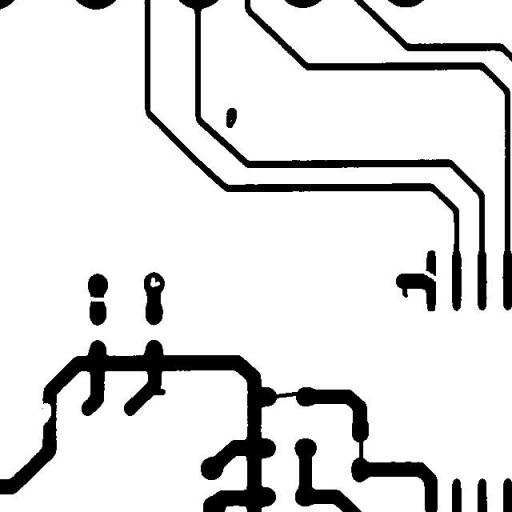copper: (218, 100, 244, 135)
mousebite: (28, 395, 58, 435)
open: (410, 261, 445, 289), (78, 289, 114, 309)
pin-hole: (142, 270, 168, 294)
short: (262, 384, 312, 407), (352, 427, 370, 471)
spur: (394, 274, 416, 305), (145, 378, 173, 402)
